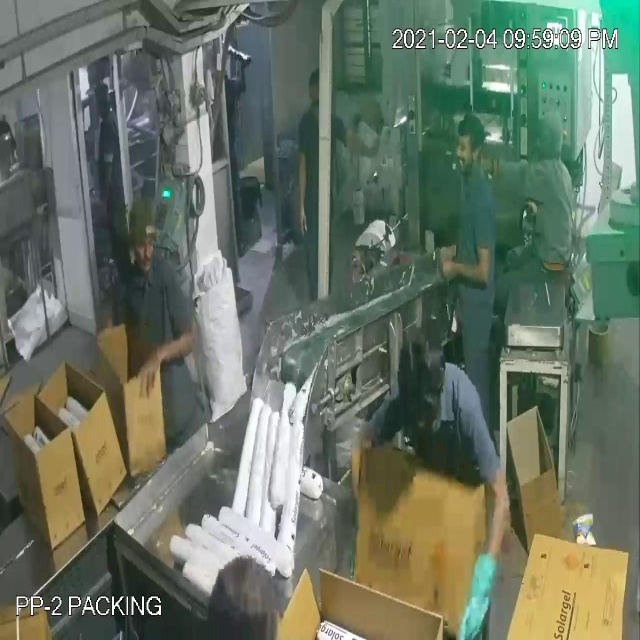Guantes: (452, 452, 516, 640)
Sin_guantes: (437, 207, 500, 292), (137, 323, 201, 404), (294, 127, 314, 244)
